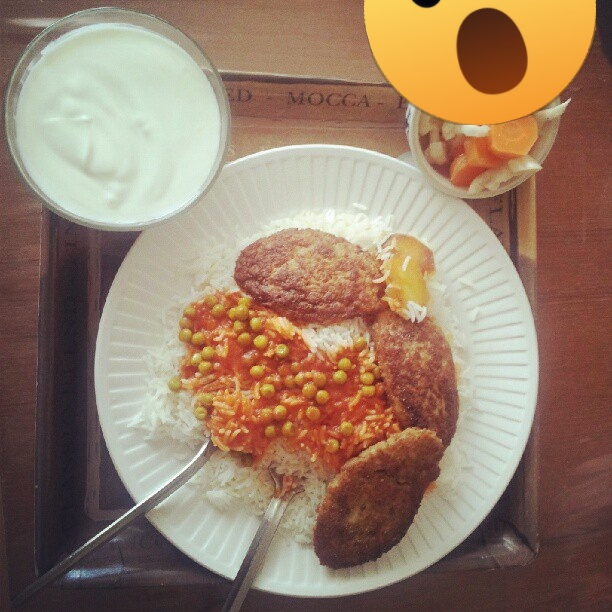wow: (364, 0, 596, 125)
